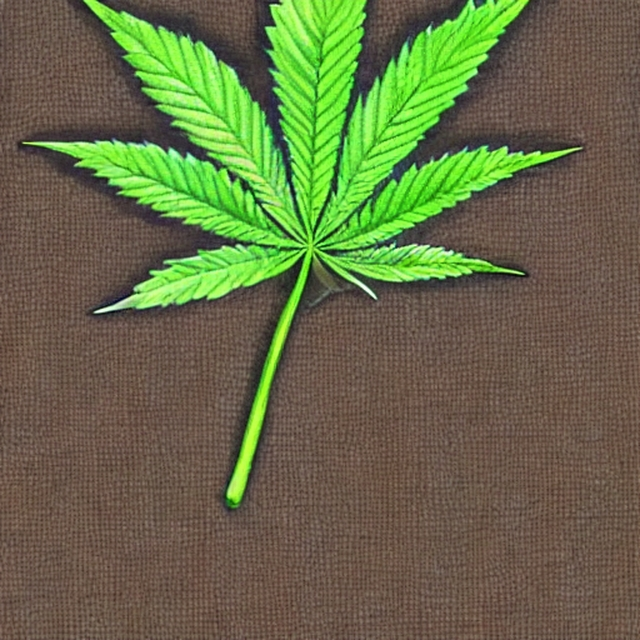Marijuana Leaf: (18, 0, 584, 509)
